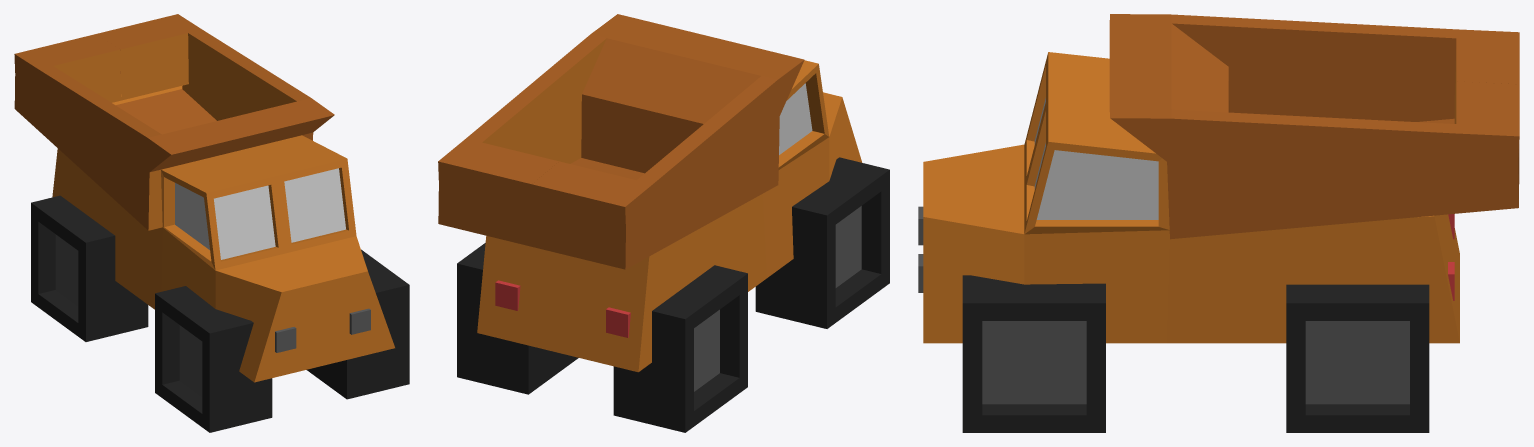
File: construction_truck.fbx
3 views of the same model, side by side, from view 1: azimuth 30°, elevation 25°; view 2: azimuth 150°, elevation 25°; view 3: azimuth 270°, elevation 25° (orthographic). The views are drawn at different scales.
Visible parts, largest first — view 1: Cube; view 2: Cube; view 3: Cube.
Part boxes in pixels (x1=…): Cube: x1=14, y1=14, x2=409, y2=432; Cube: x1=438, y1=14, x2=889, y2=432; Cube: x1=918, y1=14, x2=1519, y2=432.
Bounding box in the file's own units: 414 × 461 × 828.
